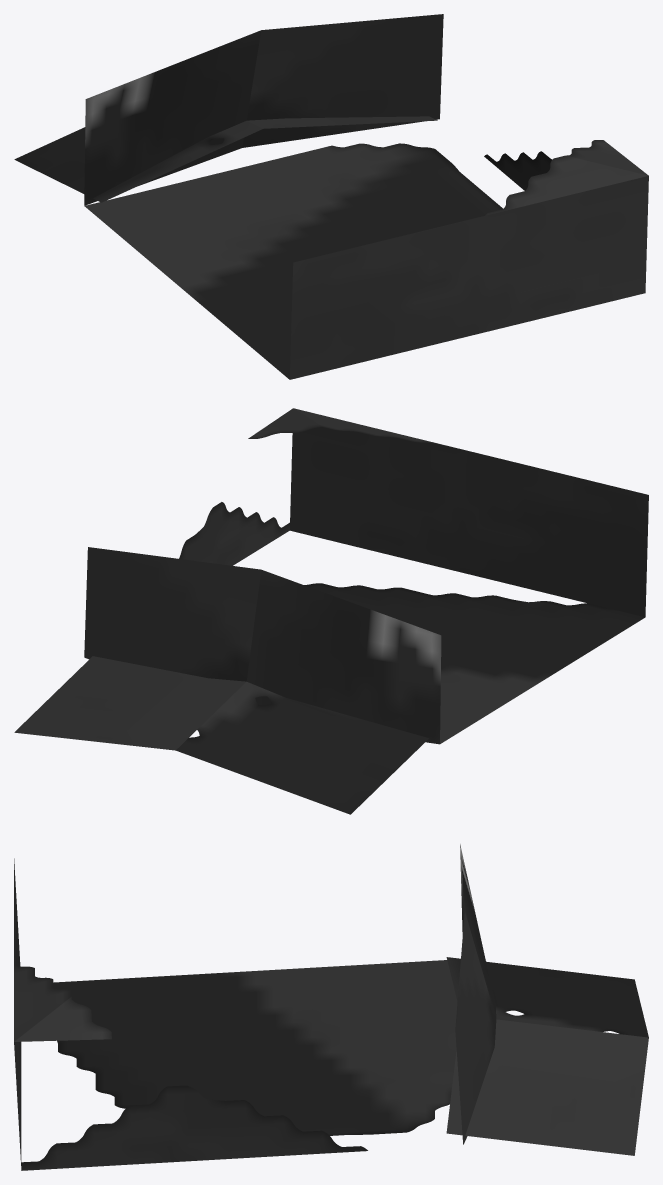
The model's file is a_police_h.obj.
3 views of the same model, one above another, from view 1: azimuth 30°, elevation 25°; view 2: azimuth 150°, elevation 25°; view 3: azimuth 270°, elevation 25° (orthographic). The views are drawn at different scales.
Visible parts, largest first — view 1: mesh; view 2: mesh; view 3: mesh.
Part boxes in pixels (<box>): mesh: <box>14,14,648,379</box>; mesh: <box>14,408,648,814</box>; mesh: <box>14,844,648,1170</box>.
Bounding box in the file's own units: 0.5813 × 0.2584 × 0.8362.
